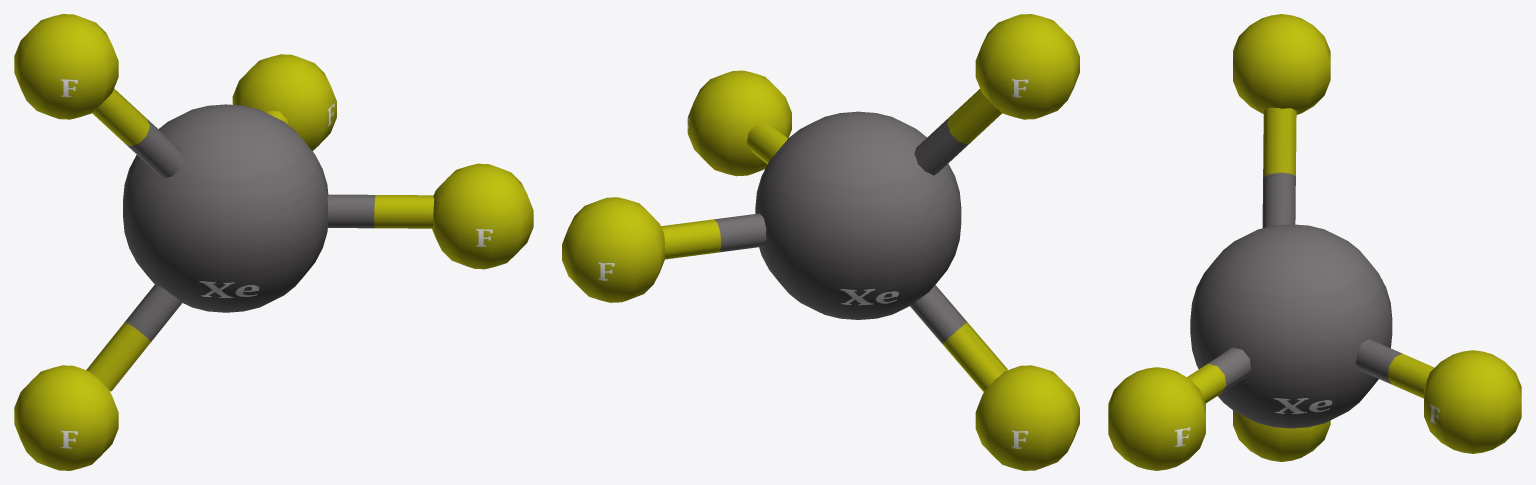
File: XeF4.dae
3 renders of one model, left to right at view 1: azimuth 30°, elevation 25°; view 2: azimuth 150°, elevation 25°; view 3: azimuth 270°, elevation 25°, orthographic. The views are drawn at different scales.
Parts seen in each view (by area): view 1: polySurface31; view 2: polySurface31; view 3: polySurface31.
Boxes of the visible parts, x1,y1,x2,y2 form: polySurface31: (14, 14, 533, 470); polySurface31: (562, 14, 1079, 470); polySurface31: (1108, 14, 1521, 470).
Bounding box in the file's own units: 1.91 × 1.85 × 1.58.
Materials: 1 (1 with a texture image).
